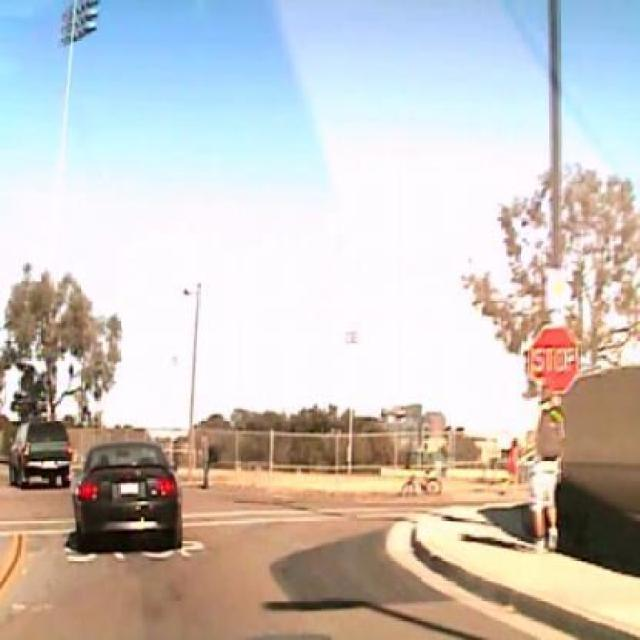stop: (526, 325, 582, 398)
